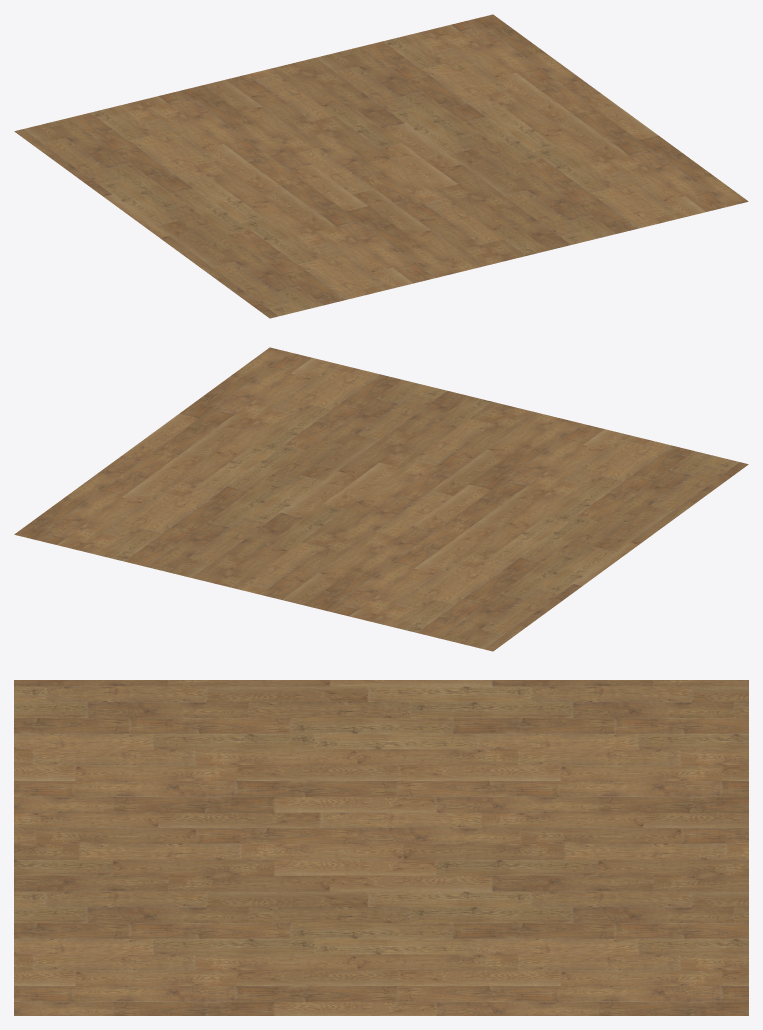
The model's file is floor_parquet.glb.
The picture shows the model from 3 angles, top to bottom: view 1: azimuth 30°, elevation 25°; view 2: azimuth 150°, elevation 25°; view 3: azimuth 270°, elevation 25°; orthographic projection. The views are drawn at different scales.
Visible parts, largest first — view 1: node_Floor_Parquet_Exterior2_-8244_1; view 2: node_Floor_Parquet_Exterior2_-8244_1; view 3: node_Floor_Parquet_Exterior2_-8244_1.
Part boxes in pixels (x1=…): node_Floor_Parquet_Exterior2_-8244_1: x1=14, y1=14, x2=748, y2=318; node_Floor_Parquet_Exterior2_-8244_1: x1=14, y1=347, x2=748, y2=651; node_Floor_Parquet_Exterior2_-8244_1: x1=14, y1=680, x2=748, y2=1015.
Size of the model in its own units: 3.28 by 3.61e-07 by 3.03.
1 material, 1 textured.
